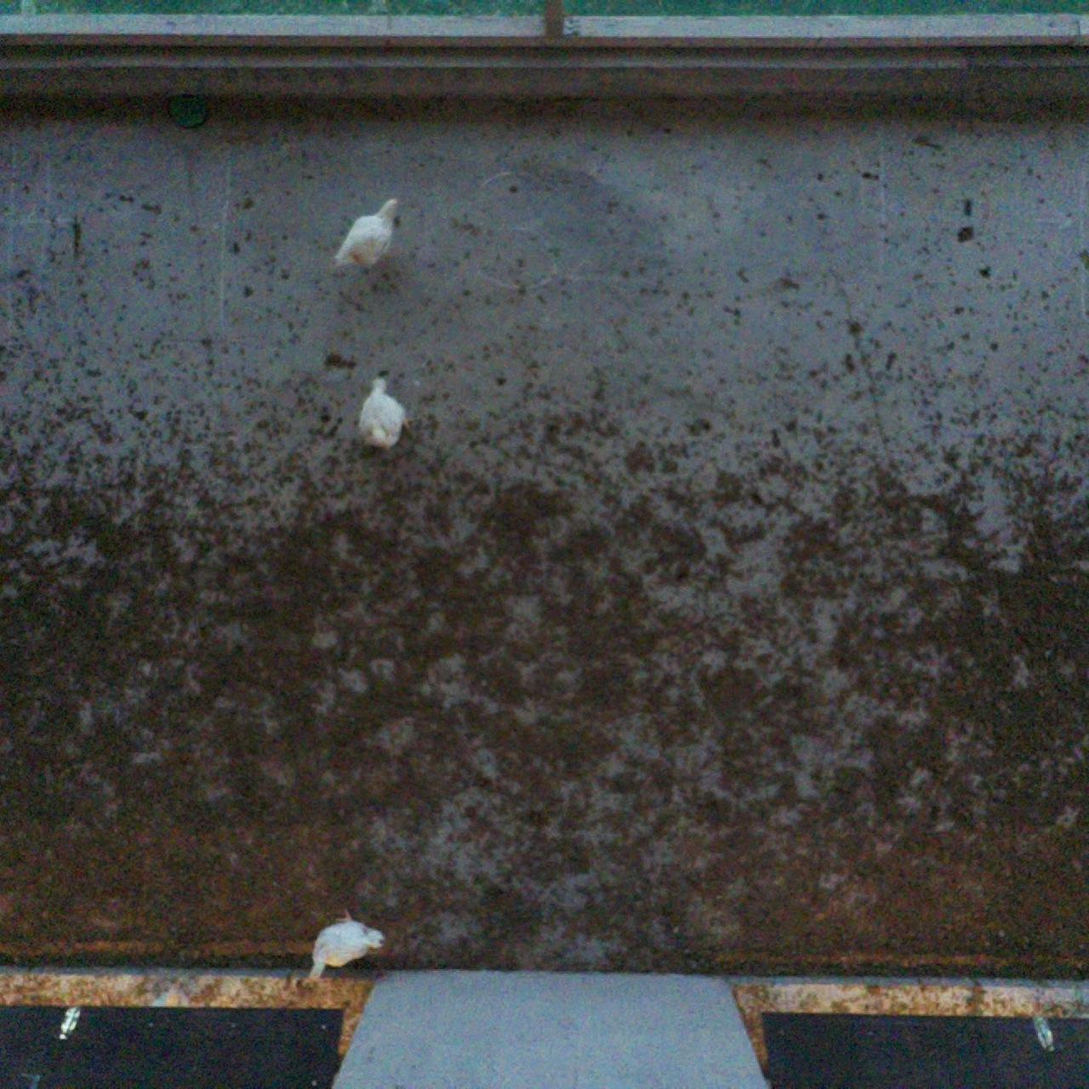chicken: (301, 906, 387, 994), (331, 195, 406, 276), (354, 374, 421, 458)
